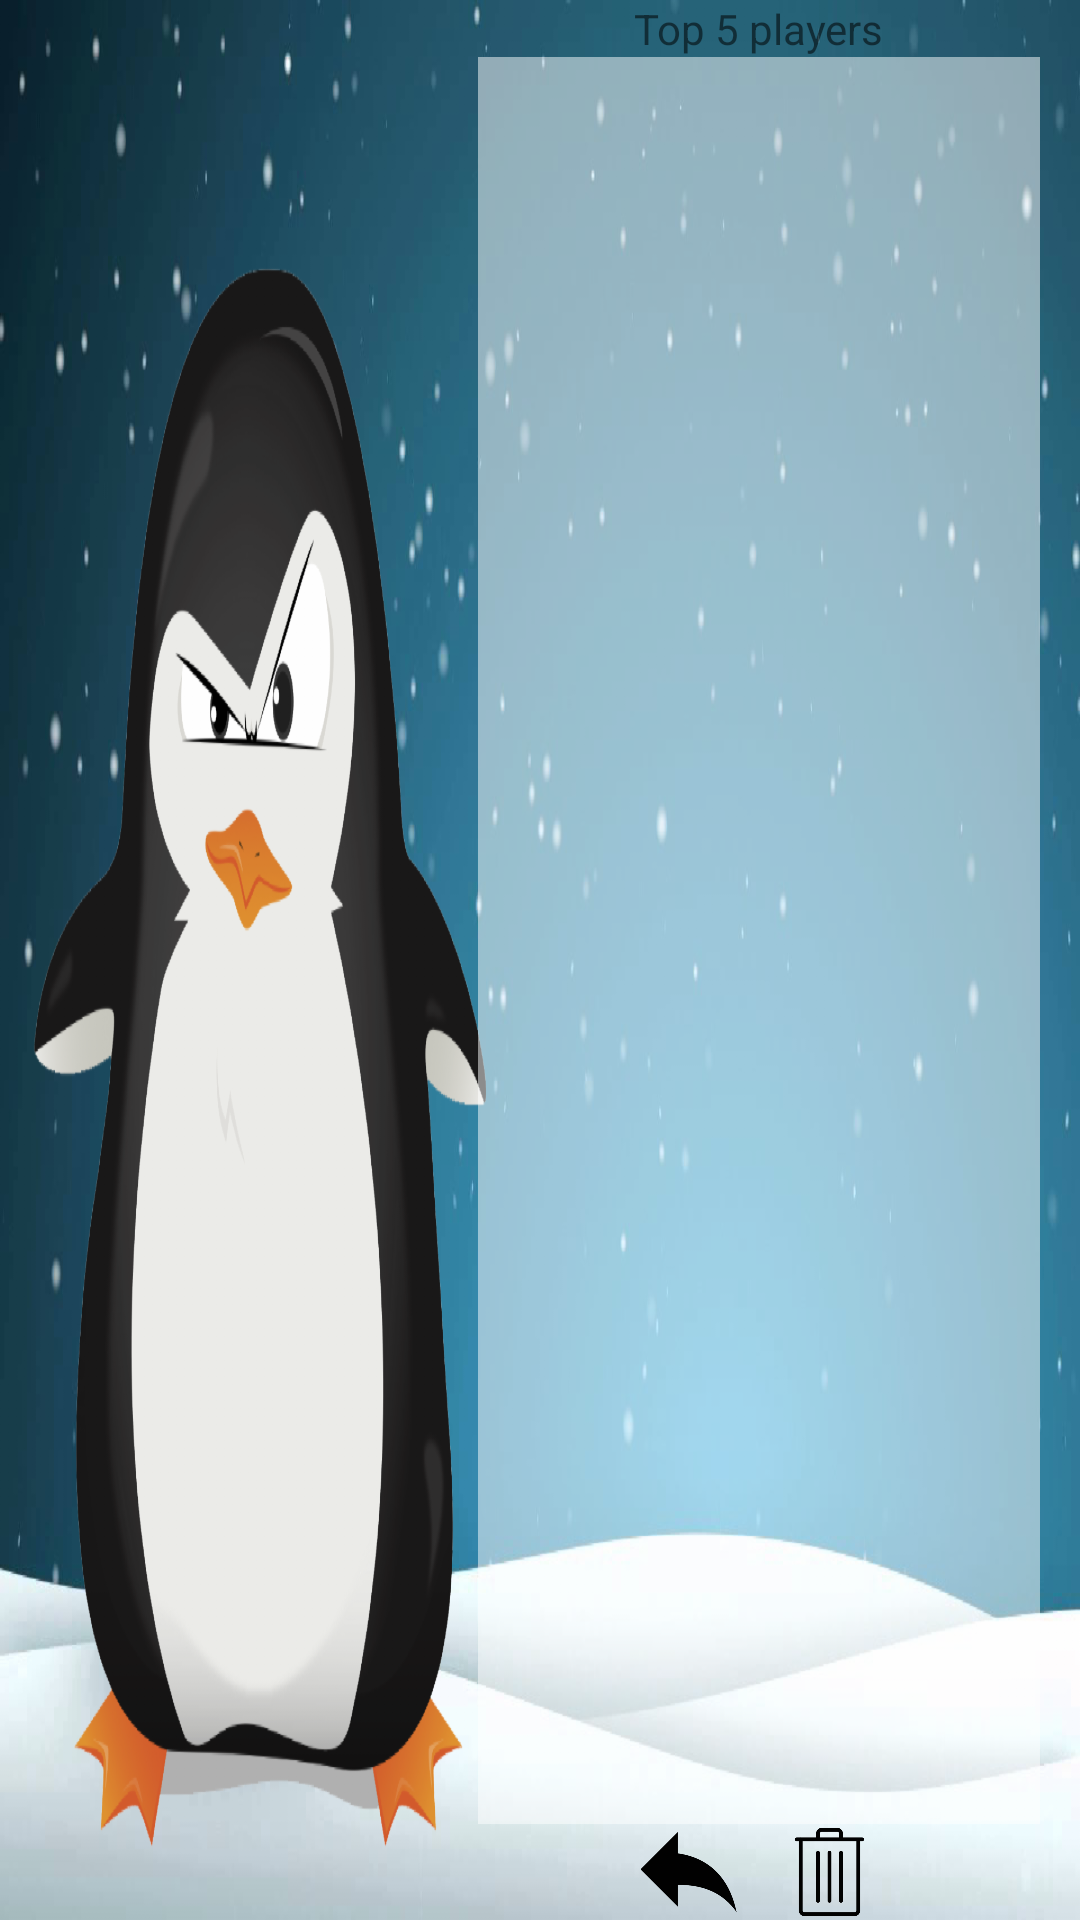

Named icons in this screenshot (1080 × 1920) and their centers, point (x, y):
back: point (688, 1872)
cleartop: point (829, 1874)
